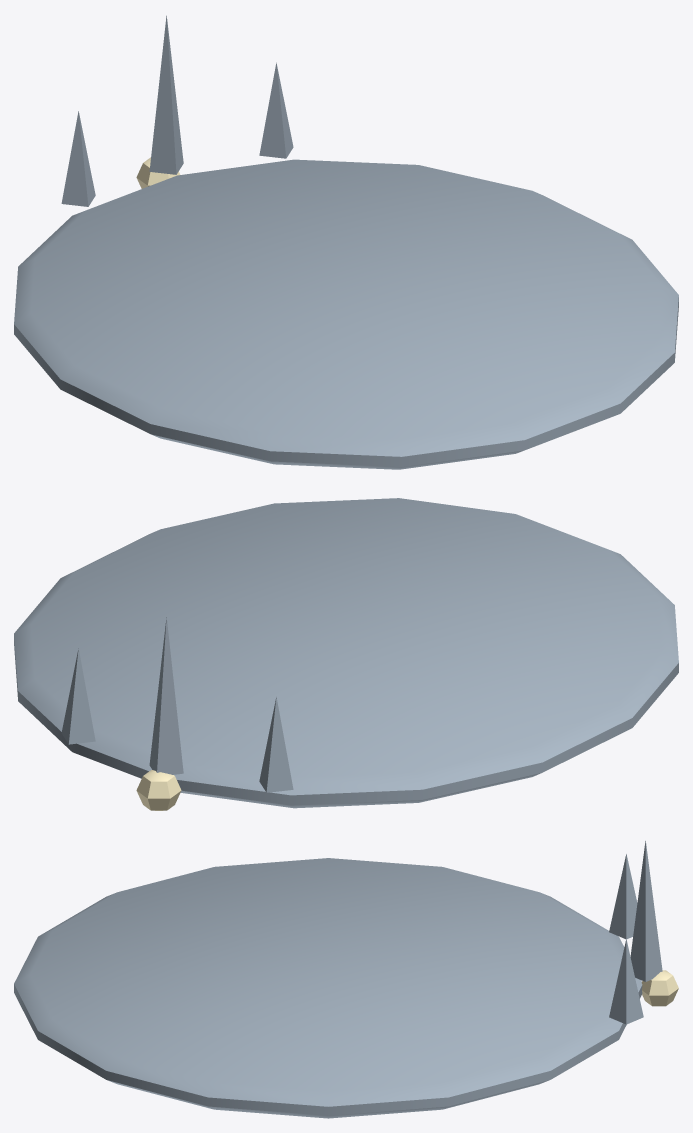
The model's file is trophy_spectral_circlet.gltf.
3 renders of one model, top to bottom at view 1: azimuth 30°, elevation 25°; view 2: azimuth 150°, elevation 25°; view 3: azimuth 270°, elevation 25°, orthographic. The views are drawn at different scales.
Parts seen in each view (by area): view 1: Body; view 2: Body; view 3: Body.
Part boxes in pixels (x1,y1,x2,y2): Body: (14, 15, 678, 469); Body: (14, 498, 678, 810); Body: (14, 841, 678, 1118).
Bounding box in the file's own units: 0.234 × 0.074 × 0.2672.
